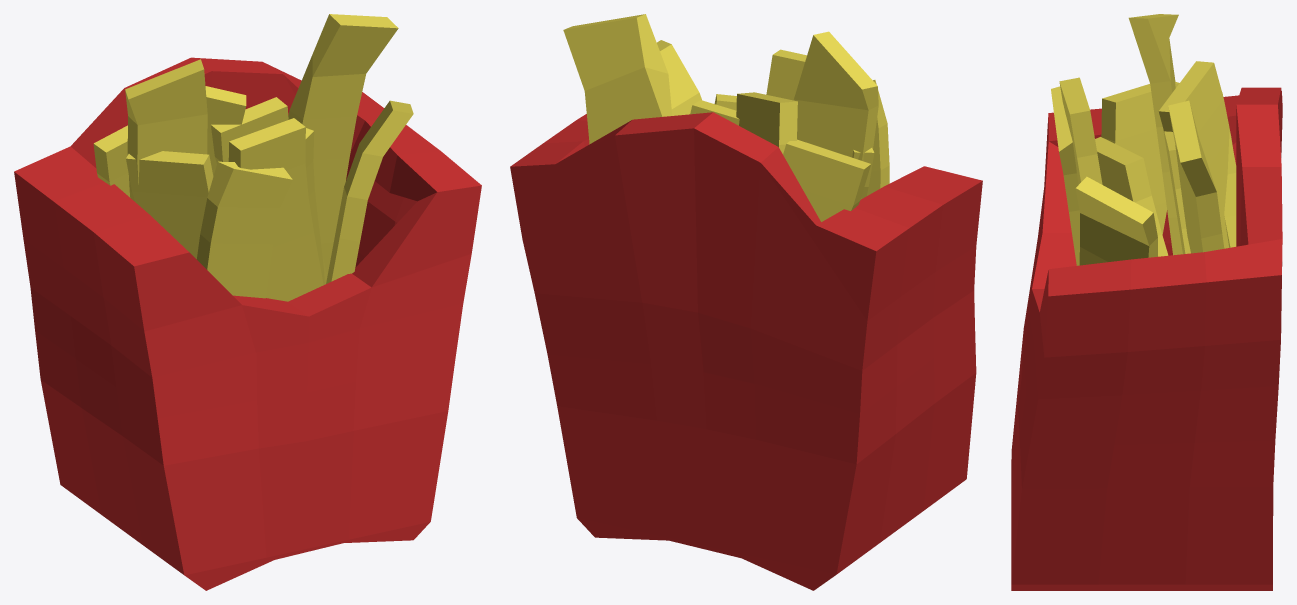
File: Fries.fbx
3 views of the same model, side by side, from view 1: azimuth 30°, elevation 25°; view 2: azimuth 150°, elevation 25°; view 3: azimuth 270°, elevation 25° (orthographic). The views are drawn at different scales.
Visible parts, largest first — view 1: Fries; view 2: Fries; view 3: Fries.
Part boxes in pixels (left/top/right/bottom): Fries: left=14, top=14, right=481, bottom=590; Fries: left=510, top=14, right=982, bottom=590; Fries: left=1011, top=14, right=1282, bottom=590.
Bounding box in the file's own units: 35.2 × 44.24 × 21.94.
